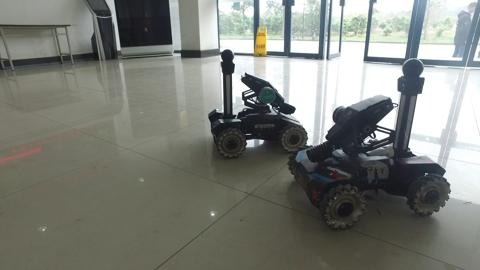chariot: (286, 57, 454, 229), (200, 49, 309, 159)
